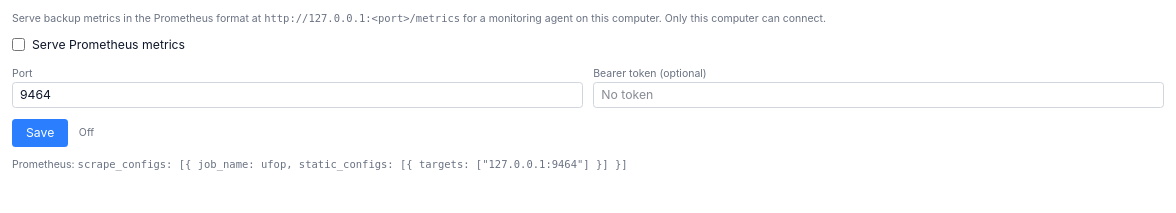
Test: MetricsExporterSection › is off by default, then turns on with a port and a token
Expected: the text with test id "metrics-state" reads "Off", [79,126,94,138]
Click the checkbox labelled "Serve Prometheus metrics" at (18, 45), box [12,38,25,51]
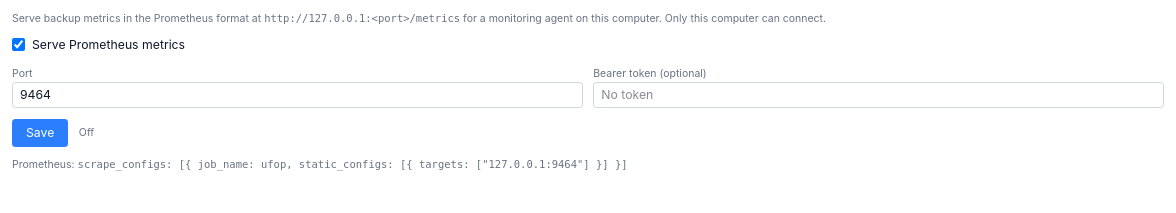
Replace the text in the field named "Metrics port" with "9500" at (297, 95), box [12,82,583,108]
Type "scrape-token-1" into the password field named "Metrics token" at (879, 95), box [593,82,1164,108]
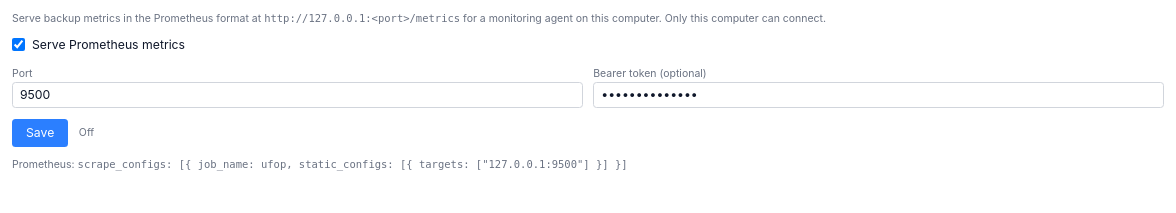
Click the button "Save" at (40, 132), box [12,118,68,146]
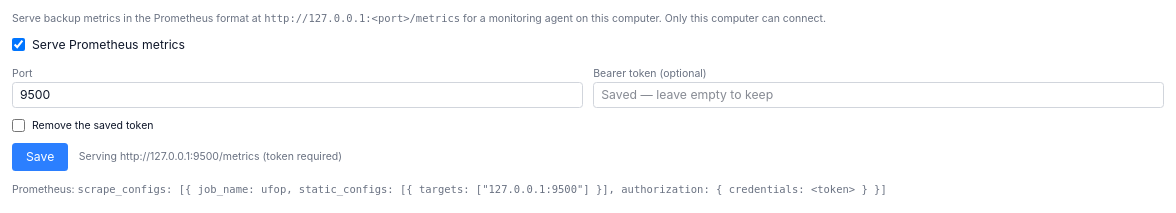
Expected: the text with test id "metrics-state" reads "Serving http://127.0.0.1:9500/metrics (token required)", [79,150,342,163]
The saved token is kept unless removed explicitly.
Click the button "Save" at (40, 157), box [12,143,68,171]
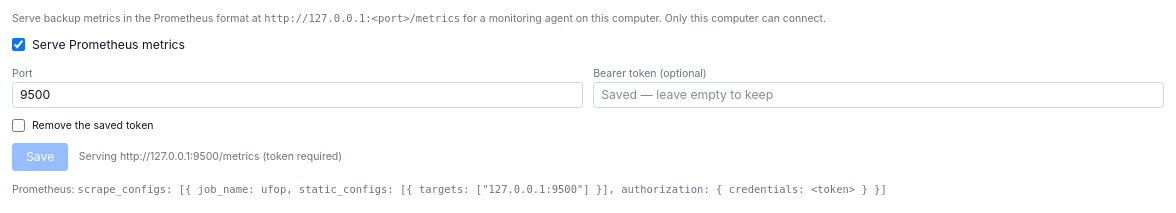
Click the checkbox labelled "Remove the saved token" at (18, 126), box [12,119,25,132]
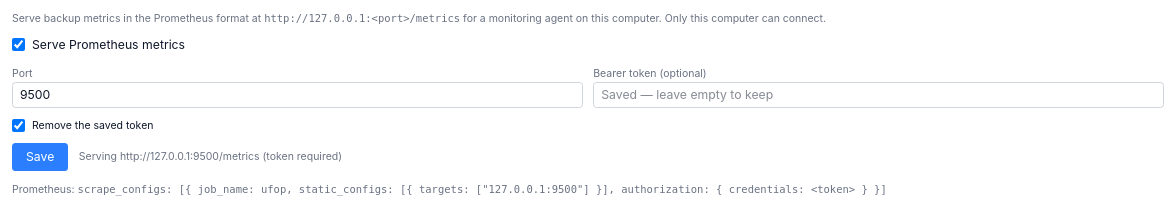
Click the button "Save" at (40, 157), box [12,143,68,171]
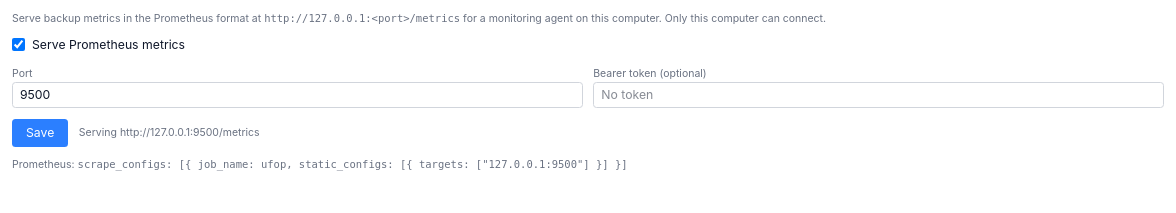
Expected: the text with test id "metrics-state" reads "Serving http://127.0.0.1:9500/metrics", [79,126,260,138]
